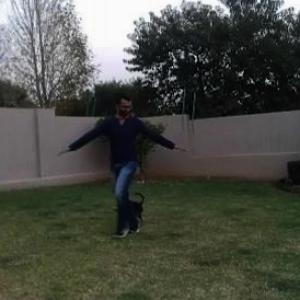land: (77, 96, 186, 225)
